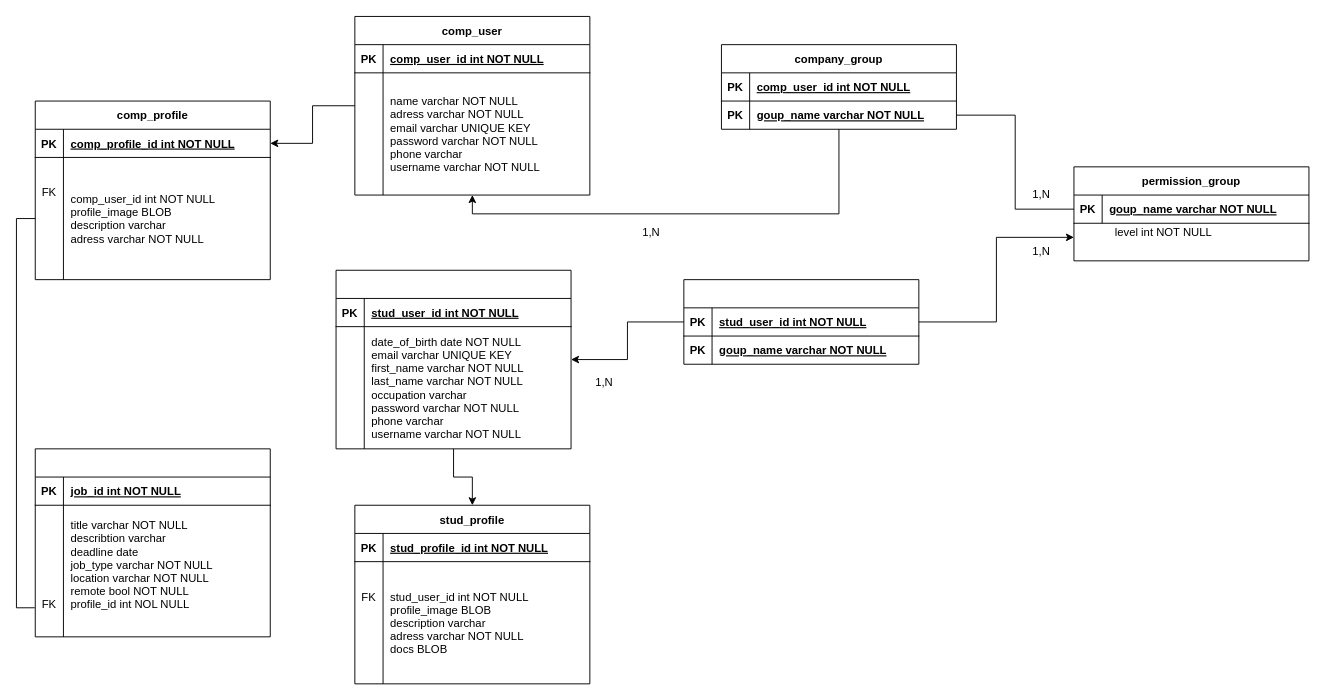
Some shapes in this 1325 by 700 pixel diagram are drawn without their labels. The box of each missing label's shape, as (x1, y1, x2, y2) in pixels:
job_ad: (34, 448, 270, 637)
student_group: (683, 279, 919, 364)
studentUser: (335, 269, 571, 449)
